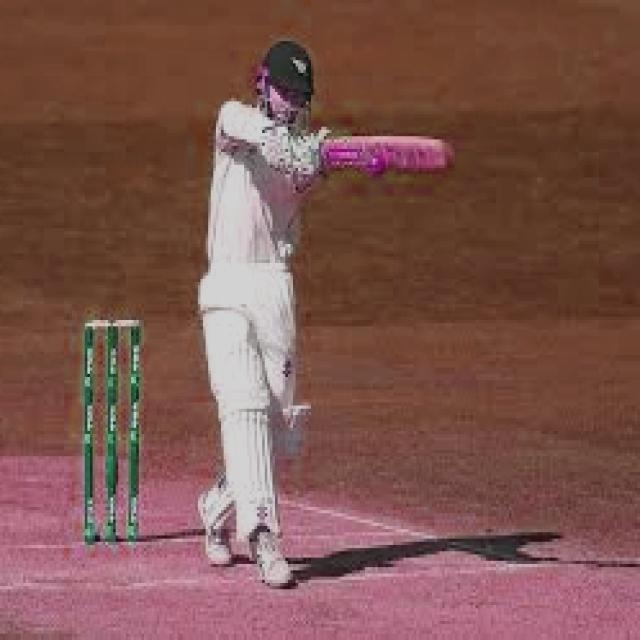toe: (421, 135, 464, 179)
